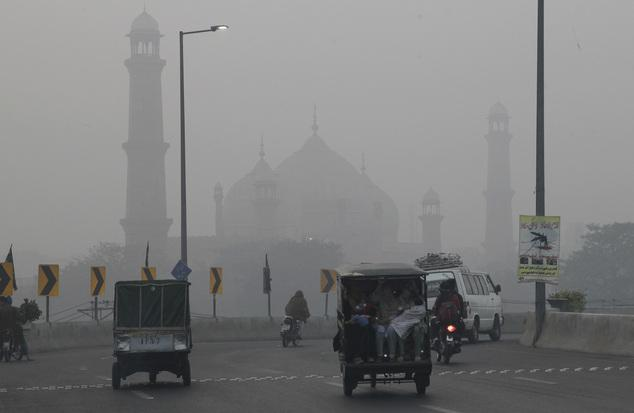backpack: (339, 352, 429, 398), (425, 299, 470, 363), (431, 279, 466, 348), (341, 306, 372, 360), (330, 315, 361, 363), (284, 289, 308, 341), (434, 282, 460, 324), (0, 310, 21, 360), (331, 311, 347, 356), (278, 315, 299, 346), (285, 291, 307, 320), (432, 281, 454, 310), (434, 294, 455, 321), (442, 289, 461, 315), (279, 309, 294, 339), (437, 290, 451, 315), (287, 289, 303, 310), (438, 300, 452, 323), (284, 293, 299, 313), (450, 291, 462, 316), (292, 295, 306, 316), (436, 300, 457, 314), (331, 326, 342, 352), (298, 296, 308, 319)
bench: (341, 356, 429, 397), (0, 310, 21, 360)
bicycle: (0, 295, 28, 361), (0, 322, 41, 360), (14, 301, 38, 361), (9, 315, 32, 361), (283, 304, 309, 344), (0, 324, 22, 362), (1, 307, 17, 354), (5, 337, 34, 361), (280, 313, 300, 346), (21, 321, 37, 359), (17, 326, 33, 360), (289, 316, 305, 344), (8, 325, 20, 357), (5, 338, 21, 361), (0, 330, 11, 362), (11, 334, 24, 361), (15, 340, 30, 360), (0, 336, 7, 363)
boat: (323, 262, 429, 370), (110, 276, 191, 390), (412, 251, 463, 269)
bus: (266, 263, 456, 404), (343, 260, 525, 371), (331, 264, 444, 363), (110, 275, 192, 389), (391, 265, 492, 348), (439, 268, 500, 344), (418, 269, 471, 356), (414, 255, 470, 311)
car: (160, 263, 471, 404), (302, 264, 544, 409), (342, 263, 450, 391), (383, 263, 512, 355), (109, 276, 191, 389), (328, 262, 432, 343), (335, 317, 432, 394), (425, 269, 503, 342), (362, 279, 431, 357), (405, 268, 467, 343), (412, 253, 497, 302), (338, 354, 431, 398), (424, 280, 473, 356), (399, 301, 452, 369), (417, 267, 486, 318), (431, 292, 491, 348), (459, 273, 499, 342), (385, 292, 425, 357), (416, 311, 470, 359), (426, 272, 466, 322), (423, 297, 454, 359), (426, 296, 470, 337), (423, 278, 449, 326), (0, 310, 21, 360), (411, 251, 464, 270)
chair: (325, 264, 431, 399), (10, 307, 34, 360), (0, 310, 21, 360)
cow: (13, 297, 39, 361)
dog: (279, 316, 300, 347)
elephant: (13, 297, 39, 361)
fire hydrant: (13, 298, 38, 361), (9, 315, 32, 361), (0, 310, 21, 360), (18, 297, 41, 337)
handbag: (344, 308, 374, 361), (284, 289, 308, 341), (331, 318, 354, 359), (330, 307, 346, 353), (285, 291, 307, 320), (288, 303, 309, 318), (292, 295, 306, 316), (331, 326, 342, 352), (284, 296, 299, 314), (298, 297, 308, 321)
horse: (342, 302, 372, 362), (11, 300, 36, 360), (0, 310, 21, 360), (6, 320, 29, 361), (280, 313, 300, 346)
kite: (36, 263, 58, 295), (318, 267, 334, 293)
motorcycle: (420, 275, 483, 350), (436, 292, 494, 360), (425, 310, 474, 374), (429, 286, 465, 356), (440, 297, 469, 351), (276, 309, 315, 349), (429, 316, 462, 363), (14, 301, 38, 361), (423, 302, 447, 355), (284, 289, 308, 337), (0, 298, 18, 359), (9, 315, 32, 361), (283, 303, 304, 345), (291, 300, 310, 345), (0, 324, 22, 362), (427, 316, 444, 363), (441, 323, 461, 362), (435, 325, 454, 361), (279, 316, 301, 347), (289, 316, 305, 344), (277, 316, 291, 344), (0, 330, 11, 362), (280, 330, 301, 346)
parking meter: (421, 274, 465, 356)
person: (327, 265, 424, 381), (424, 259, 520, 348), (397, 271, 468, 355), (362, 279, 431, 357), (331, 276, 390, 360), (443, 272, 498, 346), (424, 269, 485, 334), (400, 290, 443, 375), (1, 276, 39, 359), (385, 289, 424, 359), (430, 279, 467, 350), (421, 274, 454, 336), (427, 311, 466, 363), (330, 307, 359, 376), (423, 297, 454, 359), (377, 297, 407, 359), (345, 302, 374, 362), (350, 293, 380, 348), (358, 300, 385, 359), (369, 301, 396, 358), (11, 300, 36, 360), (340, 292, 374, 335), (434, 276, 463, 325), (330, 295, 354, 354), (386, 304, 421, 341), (0, 295, 20, 357), (403, 298, 426, 351), (455, 290, 478, 342), (284, 289, 309, 336), (342, 311, 366, 356), (16, 298, 40, 342), (416, 299, 435, 352), (281, 305, 304, 345), (442, 296, 463, 339), (386, 317, 407, 359), (19, 315, 38, 361), (277, 298, 301, 334), (1, 299, 25, 335), (443, 280, 465, 319), (9, 300, 28, 345), (0, 324, 22, 362), (318, 268, 335, 317), (340, 304, 360, 345), (8, 320, 29, 359), (346, 303, 369, 338), (381, 305, 404, 340), (359, 313, 376, 359), (344, 290, 370, 320), (364, 314, 382, 357), (381, 319, 400, 358), (430, 280, 452, 313), (331, 311, 347, 356), (411, 310, 427, 355), (326, 306, 342, 351), (356, 301, 379, 332), (348, 299, 375, 325), (389, 285, 410, 318), (0, 252, 15, 297), (371, 317, 388, 356), (487, 295, 501, 341), (275, 307, 293, 342), (352, 312, 369, 349), (283, 289, 303, 320), (7, 306, 21, 350), (352, 294, 377, 317), (0, 295, 13, 339), (368, 308, 385, 341), (17, 326, 33, 360), (338, 285, 352, 323), (292, 303, 306, 340), (279, 315, 296, 345), (337, 303, 352, 334), (293, 292, 309, 321), (393, 285, 413, 308), (437, 279, 456, 303), (345, 312, 370, 330), (364, 304, 381, 330), (286, 290, 308, 310), (345, 305, 365, 325), (340, 296, 354, 324), (380, 328, 393, 358), (11, 304, 26, 330), (355, 304, 372, 326), (331, 321, 343, 352), (430, 281, 443, 309), (353, 291, 371, 311), (367, 315, 380, 342), (350, 299, 369, 317), (0, 317, 11, 348), (16, 300, 30, 324), (357, 292, 377, 308), (346, 297, 360, 319), (359, 302, 377, 319), (365, 296, 379, 317), (342, 307, 355, 329), (277, 315, 290, 336), (0, 294, 11, 317), (389, 306, 405, 321), (335, 308, 343, 331)
potted plant: (14, 296, 41, 359), (0, 293, 19, 355), (411, 251, 462, 270), (21, 299, 43, 343), (9, 300, 28, 345), (17, 297, 41, 326), (16, 300, 30, 324), (26, 299, 41, 321), (13, 303, 25, 324)
stop sign: (411, 251, 462, 270), (36, 262, 58, 296)
suitcase: (337, 290, 431, 397), (336, 302, 417, 357), (339, 356, 426, 396), (348, 344, 431, 384), (339, 309, 375, 389), (337, 347, 382, 391), (354, 363, 417, 388), (346, 304, 373, 362), (357, 357, 420, 379), (362, 349, 419, 370), (372, 317, 398, 359), (370, 337, 413, 362), (342, 317, 364, 362), (341, 354, 363, 396), (331, 319, 355, 354), (338, 329, 369, 356), (357, 314, 374, 362), (363, 316, 381, 361), (368, 330, 390, 361), (352, 321, 371, 355), (371, 318, 385, 356), (383, 324, 398, 359), (279, 315, 296, 345), (374, 324, 388, 358), (374, 371, 411, 382), (400, 332, 414, 361), (359, 328, 371, 361), (380, 328, 393, 358), (356, 326, 367, 360), (331, 326, 342, 352), (360, 350, 376, 362), (373, 352, 390, 362)
traffic light: (429, 278, 467, 344), (261, 266, 270, 293)
train: (325, 264, 431, 399), (109, 276, 191, 390)
truck: (266, 263, 456, 404), (105, 151, 202, 393), (343, 260, 525, 371), (331, 264, 444, 363), (376, 257, 467, 379), (337, 290, 431, 397), (110, 276, 191, 389), (391, 265, 492, 348), (335, 283, 415, 349), (366, 267, 428, 350), (439, 268, 500, 344), (412, 253, 497, 302), (424, 280, 473, 356), (341, 356, 429, 397), (419, 264, 467, 327)
tv: (328, 264, 428, 379), (420, 267, 475, 332)
umbrella: (411, 251, 462, 270), (0, 244, 16, 300), (89, 263, 106, 313), (36, 263, 58, 296), (17, 297, 41, 325), (319, 267, 336, 294)
